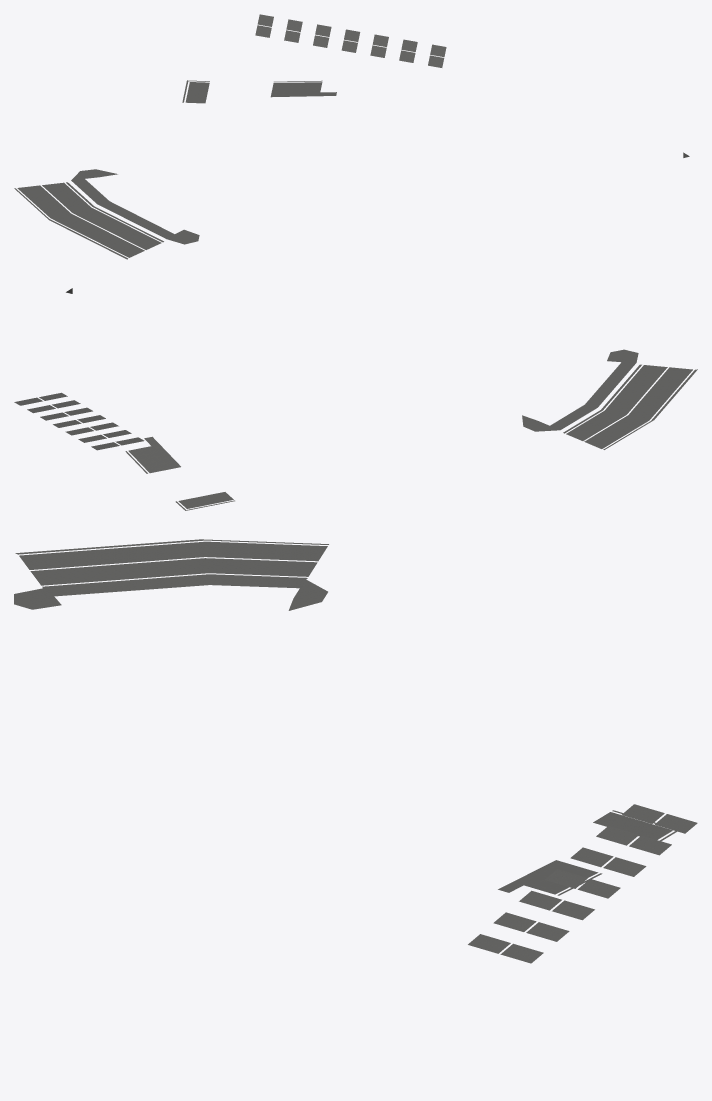
The model's file is kd_stage_135fe0_4_22.glb.
3 views of the same model, one above another, from view 1: azimuth 30°, elevation 25°; view 2: azimuth 150°, elevation 25°; view 3: azimuth 270°, elevation 25° (orthographic). The views are drawn at different scales.
Visible parts, largest first — view 1: kd_stage_135fe0_4_22; view 2: kd_stage_135fe0_4_22; view 3: kd_stage_135fe0_4_22.
Part boxes in pixels (left/top/right/bottom): kd_stage_135fe0_4_22: left=14, top=14, right=689, bottom=259; kd_stage_135fe0_4_22: left=14, top=288, right=697, bottom=510; kd_stage_135fe0_4_22: left=14, top=539, right=697, bottom=963.
Bounding box in the file's own units: 87.67 × 8.2 × 55.37.
Materials: 1 (1 with a texture image).
